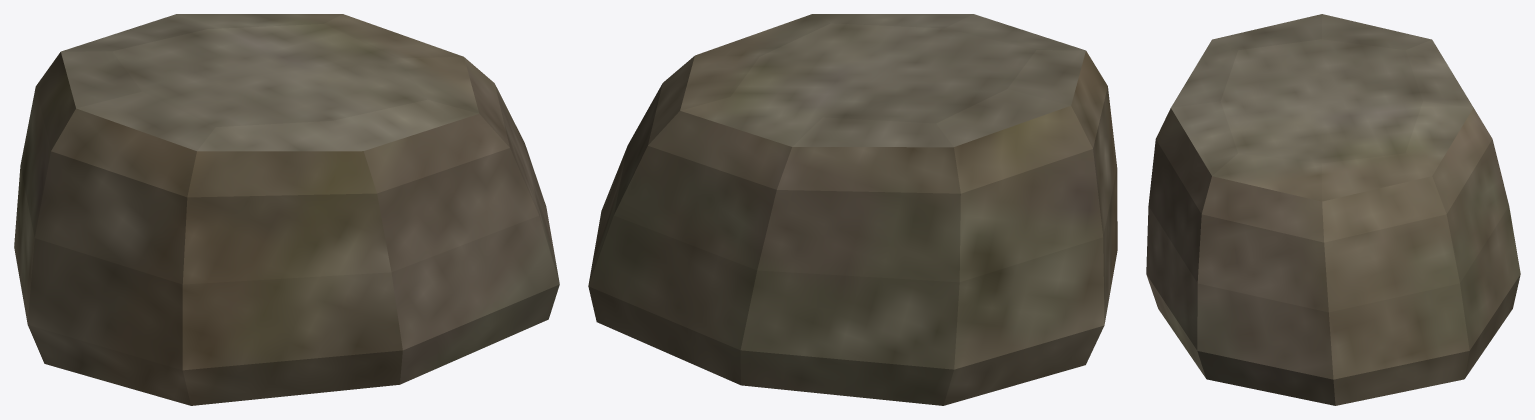
The model's file is rocha.fbx.
The picture shows the model from 3 angles, left to right: view 1: azimuth 30°, elevation 25°; view 2: azimuth 150°, elevation 25°; view 3: azimuth 270°, elevation 25°; orthographic projection. The views are drawn at different scales.
Parts seen in each view (by area): view 1: rocha 1; view 2: rocha 1; view 3: rocha 1.
Part boxes in pixels (bbox=[...]): rocha 1: bbox=[14, 14, 559, 405]; rocha 1: bbox=[588, 14, 1117, 405]; rocha 1: bbox=[1146, 14, 1520, 405].
Size of the model in its own units: 291 by 146 by 225.
Materials: 1 (1 with a texture image).
